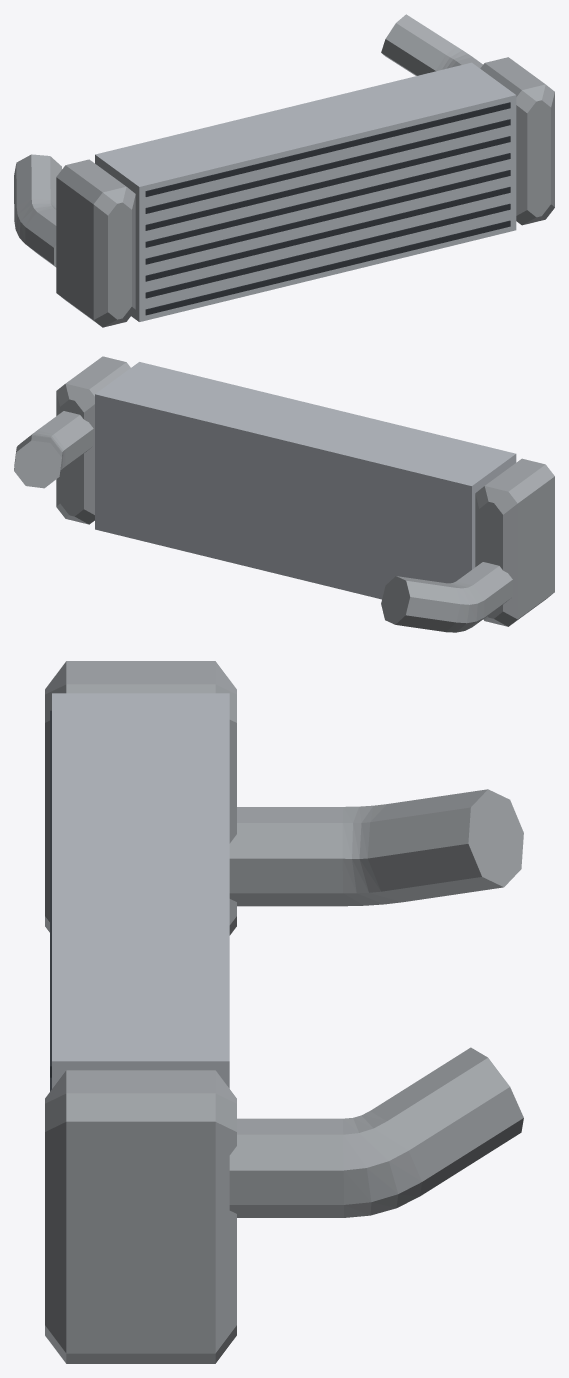
The model's file is hana_roadster.glb.
3 views of the same model, one above another, from view 1: azimuth 30°, elevation 25°; view 2: azimuth 150°, elevation 25°; view 3: azimuth 270°, elevation 25° (orthographic). The views are drawn at different scales.
Visible parts, largest first — view 1: model; view 2: model; view 3: model.
Boxes of the visible parts, left/top/right/bottom form: model: left=14, top=14, right=554, bottom=327; model: left=14, top=356, right=554, bottom=632; model: left=45, top=661, right=523, bottom=1363.
Bounding box in the file's own units: 0.6 × 0.1696 × 0.2696.
Materials: 2 (1 with a texture image).
